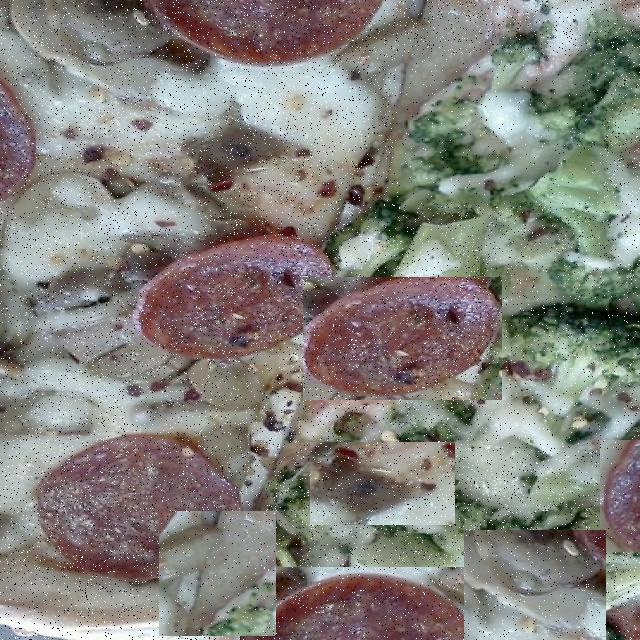Mushrooms: (492, 252, 626, 450), (464, 530, 606, 640), (159, 511, 276, 636), (310, 442, 455, 525)
Pepperoni: (396, 56, 604, 202), (303, 277, 502, 400), (240, 567, 497, 640), (600, 440, 640, 552)
